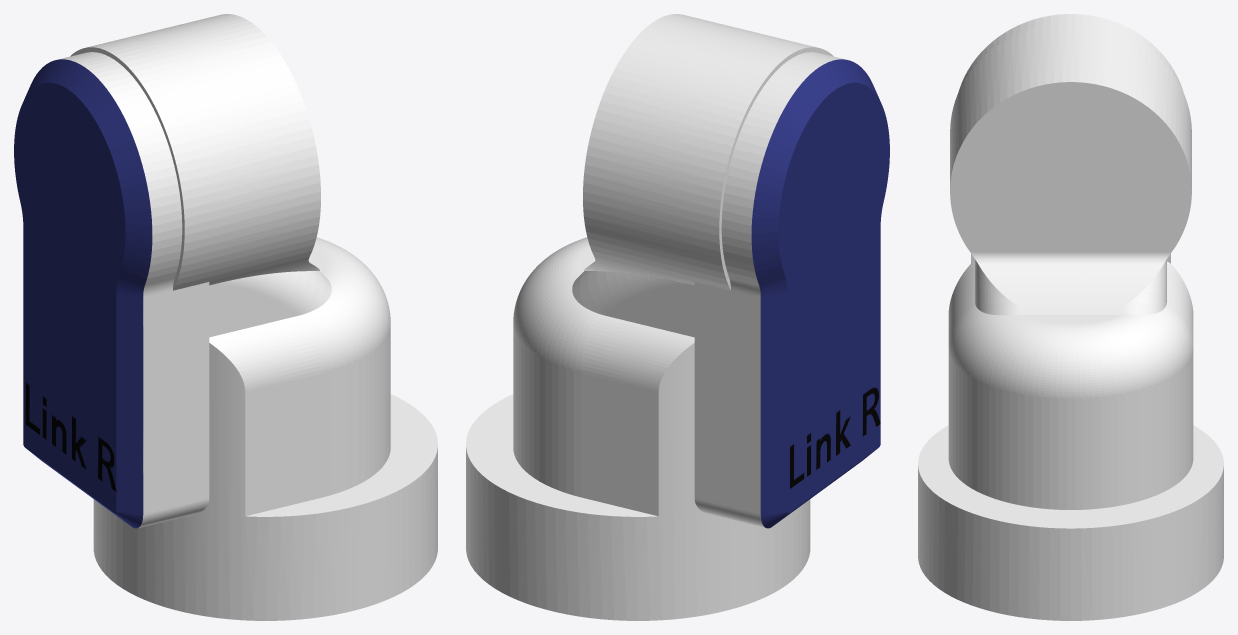
The picture shows the model from 3 angles, left to right: view 1: azimuth 30°, elevation 25°; view 2: azimuth 150°, elevation 25°; view 3: azimuth 270°, elevation 25°; orthographic projection. The views are drawn at different scales.
Parts seen in each view (by area): view 1: Lilnk_R; view 2: Lilnk_R; view 3: Lilnk_R.
Part boxes in pixels (box(x1,y1,x2,y2)): Lilnk_R: box(14, 14, 437, 620); Lilnk_R: box(466, 14, 889, 620); Lilnk_R: box(918, 14, 1223, 620).
Size of the model in its own units: 0.1215 by 0.105 by 0.1805.
1 material, 1 textured.
